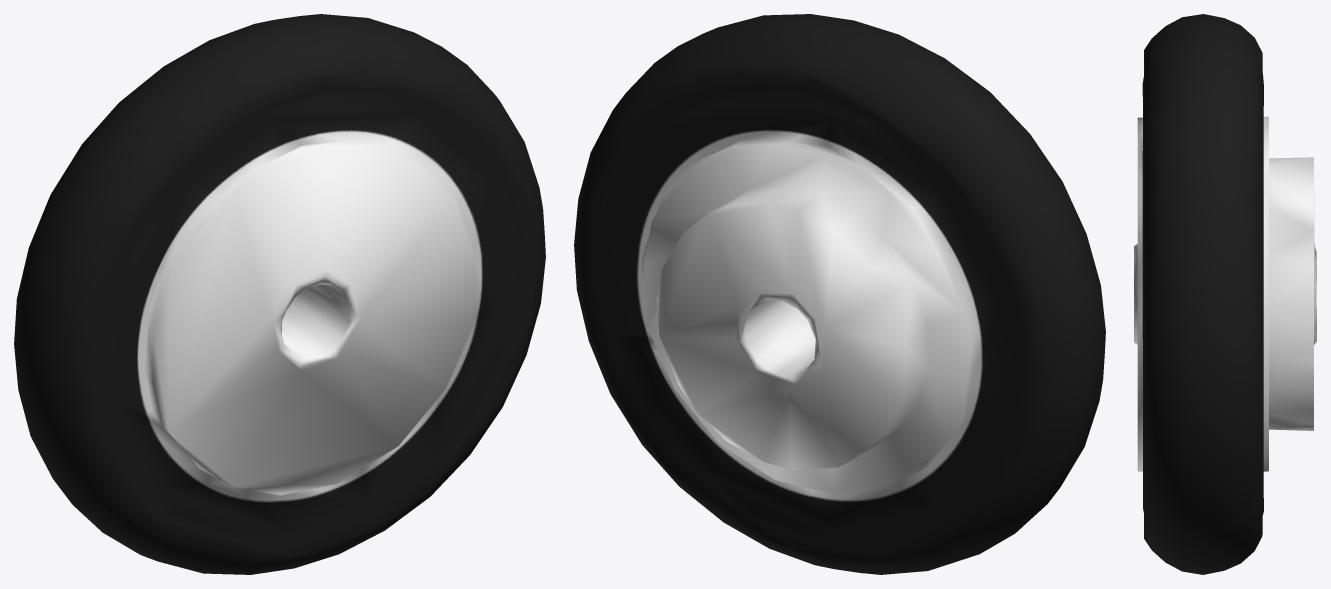
Rendered from wheel.obj.
3 views of the same model, side by side, from view 1: azimuth 30°, elevation 25°; view 2: azimuth 150°, elevation 25°; view 3: azimuth 270°, elevation 25° (orthographic). The views are drawn at different scales.
Visible parts, largest first — view 1: SM_wheel_M_mod; view 2: SM_wheel_M_mod; view 3: SM_wheel_M_mod.
Part boxes in pixels (x1,y1,x2,y2): SM_wheel_M_mod: [14, 14, 545, 574]; SM_wheel_M_mod: [574, 14, 1105, 574]; SM_wheel_M_mod: [1134, 14, 1316, 574].
Bounding box in the file's own units: 0.1588 × 0.1588 × 0.0517.
Materials: 1 (1 with a texture image).
